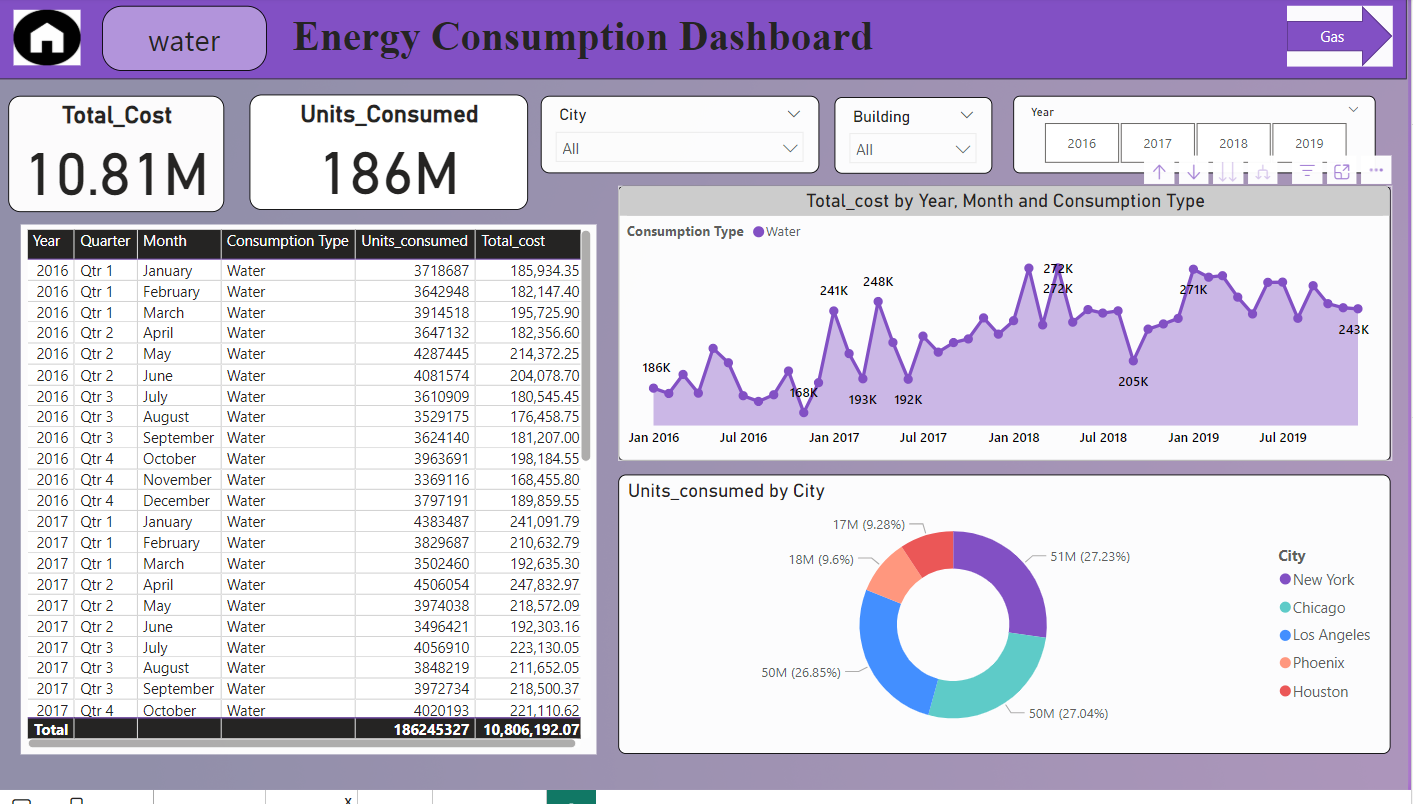

Layout of this report page (visuals, bound fields, positions):
{"tool":"powerbi","page":{"name":"Water","canvas":[1280,720],"ordinal":1},"visuals":[{"type":"shape","box":[0,0,1279.4,74.9],"z":0},{"type":"card","title":"Total_Cost","fields":{"Values":["Energy Consumptions.Total_cost"]},"box":[10.1,89.5,196.2,105.3],"z":1000},{"type":"card","title":"Units_Consumed","fields":{"Values":["Energy Consumptions.Units_consumed"]},"box":[229.6,89,252.7,105],"z":2000},{"type":"textbox","box":[217.9,8.7,627.6,62],"z":3000},{"type":"textbox","box":[95.6,8.3,149.7,59.2],"z":4000},{"type":"slicer","fields":{"Values":["Building Master.City"]},"box":[493.4,89.5,252.5,70.7],"z":5000},{"type":"slicer","fields":{"Values":["Building Master.Building"]},"box":[760.3,90.9,142.8,69.3],"z":6000},{"type":"slicer","fields":{"Values":["Energy Consumptions.Date.Variation.Date Hierarchy.Year"]},"box":[921.9,89.5,328.9,70.7],"z":7000},{"type":"areaChart","fields":{"Category":["Energy Consumptions.Date.Variation.Date Hierarchy.Year","Energy Consumptions.Date.Variation.Date Hierarchy.Month"],"Y":["Energy Consumptions.Total_cost"],"Series":["Energy Consumptions.Consumption Type"]},"box":[564.1,171.7,701.2,249.6],"z":8000},{"type":"tableEx","fields":{"Values":["Energy Consumptions.Date.Variation.Date Hierarchy.Year","Energy Consumptions.Date.Variation.Date Hierarchy.Quarter","Energy Consumptions.Date.Variation.Date Hierarchy.Month","Energy Consumptions.Consumption Type","Energy Consumptions.Units_consumed","Energy Consumptions.Total_cost"]},"box":[21.6,206.3,522.3,480.4],"z":9000},{"type":"donutChart","fields":{"Category":["Building Master.City"],"Y":["Energy Consumptions.Units_consumed"]},"box":[564.1,432.8,701.2,253.9],"z":10000},{"type":"image","box":[10.4,7.3,70.7,60.3],"z":11000},{"type":"shape","box":[1170.2,8.3,95.6,55.1],"z":12000}]}

Visuals, with their boxes on the page's 1280x720 design canvas (x1, y1, x2, y2). These are canvas units, not pixel positions in the 1413x804 screenshot, which may show the page scaled, cropped or inside an application window:
shape: x1=0 y1=0 x2=1279 y2=75
"Total_Cost" card: x1=10 y1=90 x2=206 y2=195
"Units_Consumed" card: x1=230 y1=89 x2=482 y2=194
textbox: x1=218 y1=9 x2=846 y2=71
textbox: x1=96 y1=8 x2=245 y2=68
slicer - Building Master.City: x1=493 y1=90 x2=746 y2=160
slicer - Building Master.Building: x1=760 y1=91 x2=903 y2=160
slicer - Energy Consumptions.Date.Variation.Date Hierarchy.Year: x1=922 y1=90 x2=1251 y2=160
areaChart - Energy Consumptions.Date.Variation.Date Hierarchy.Year x Energy Consumptions.Date.Variation.Date Hierarchy.Month: x1=564 y1=172 x2=1265 y2=421
tableEx - Energy Consumptions.Date.Variation.Date Hierarchy.Year x Energy Consumptions.Date.Variation.Date Hierarchy.Quarter: x1=22 y1=206 x2=544 y2=687
donutChart - Building Master.City x Energy Consumptions.Units_consumed: x1=564 y1=433 x2=1265 y2=687
image: x1=10 y1=7 x2=81 y2=68
shape: x1=1170 y1=8 x2=1266 y2=63
